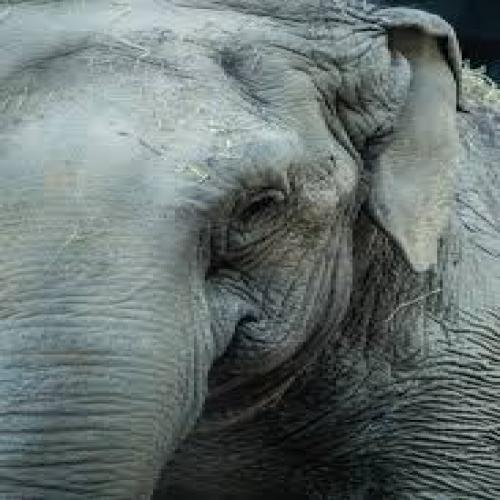asian_elephant-endangered: (7, 14, 473, 481)
